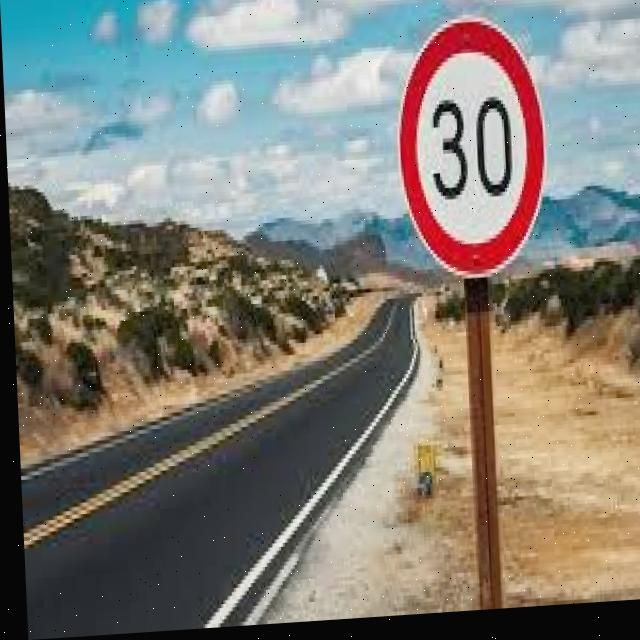Speed limit 30: (391, 14, 552, 289)
